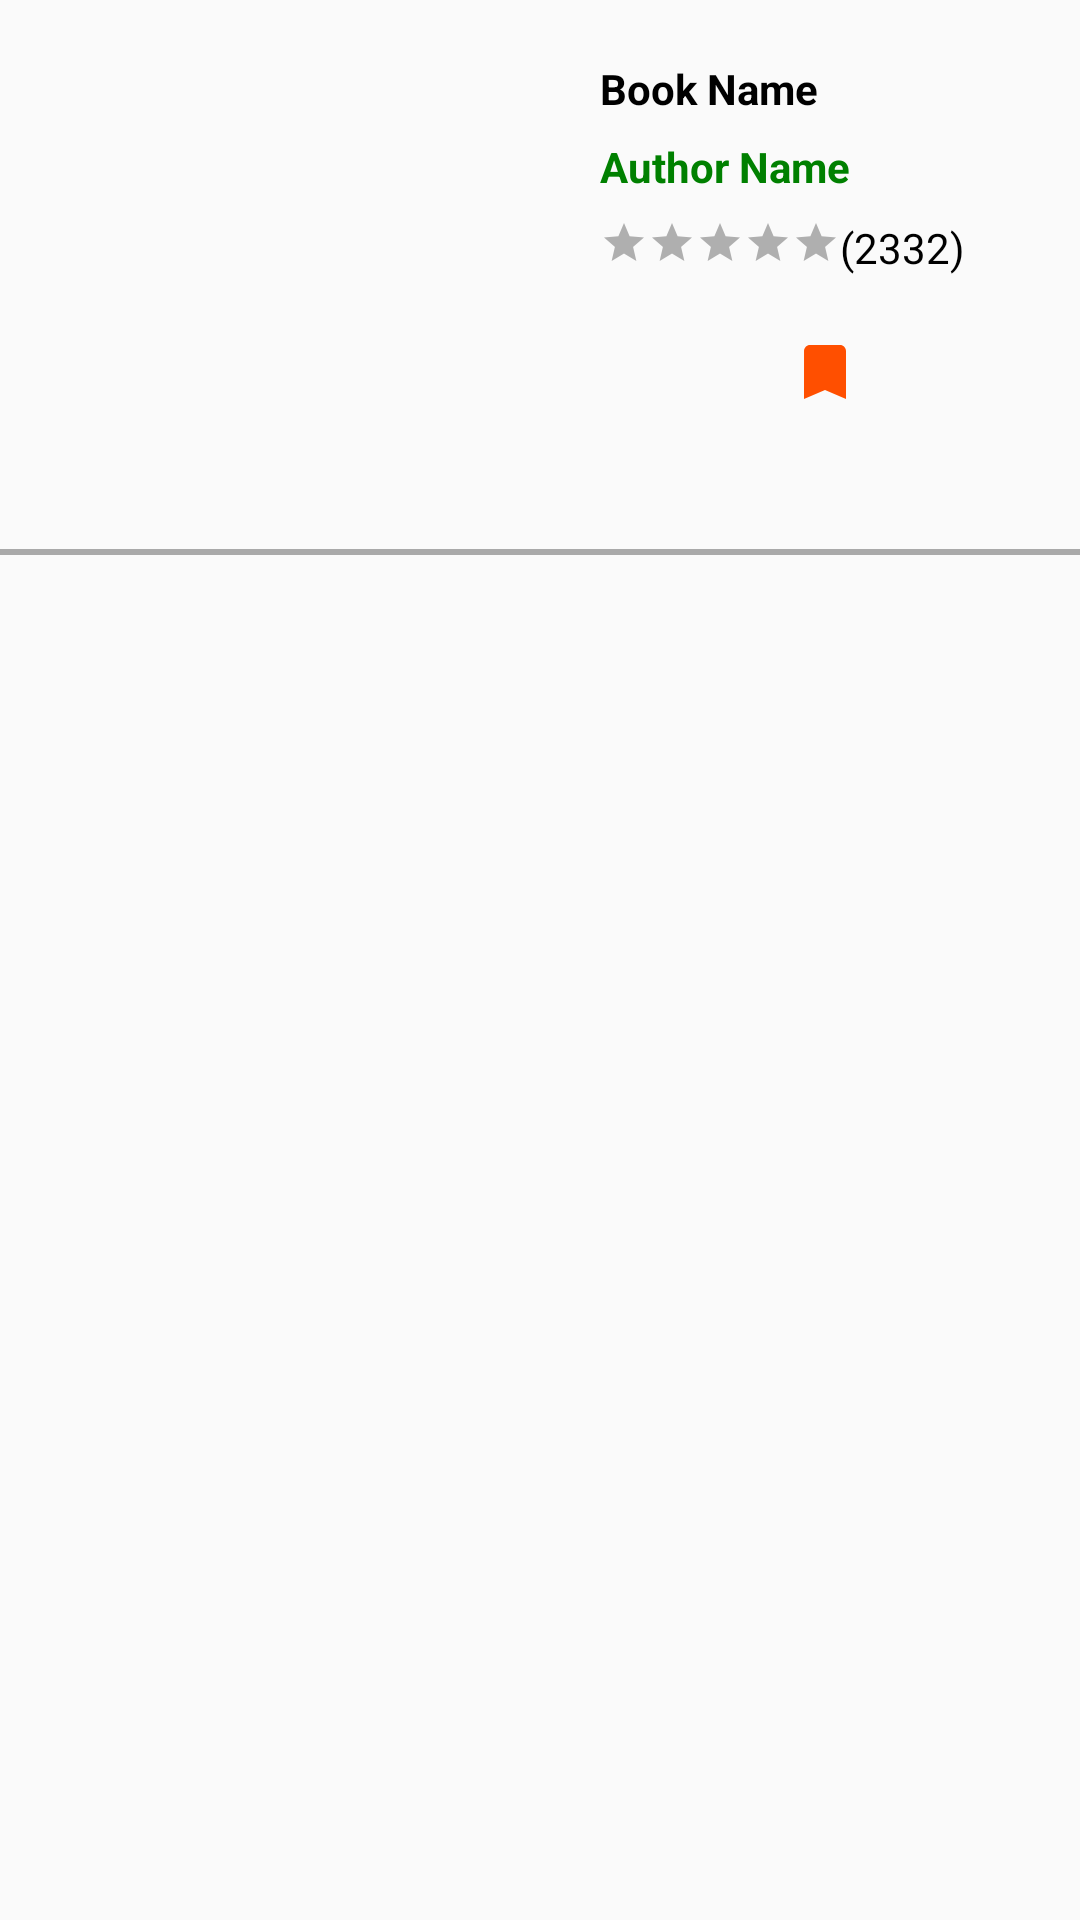

Named icons in this screenshot (1080px x 1920px) and their centers, [x,y]:
bookmark: [825,372]
